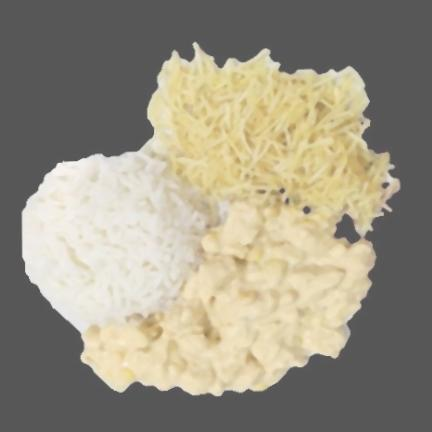chicken: (81, 207, 378, 393)
potato: (156, 57, 399, 237)
rice: (24, 135, 220, 330)
